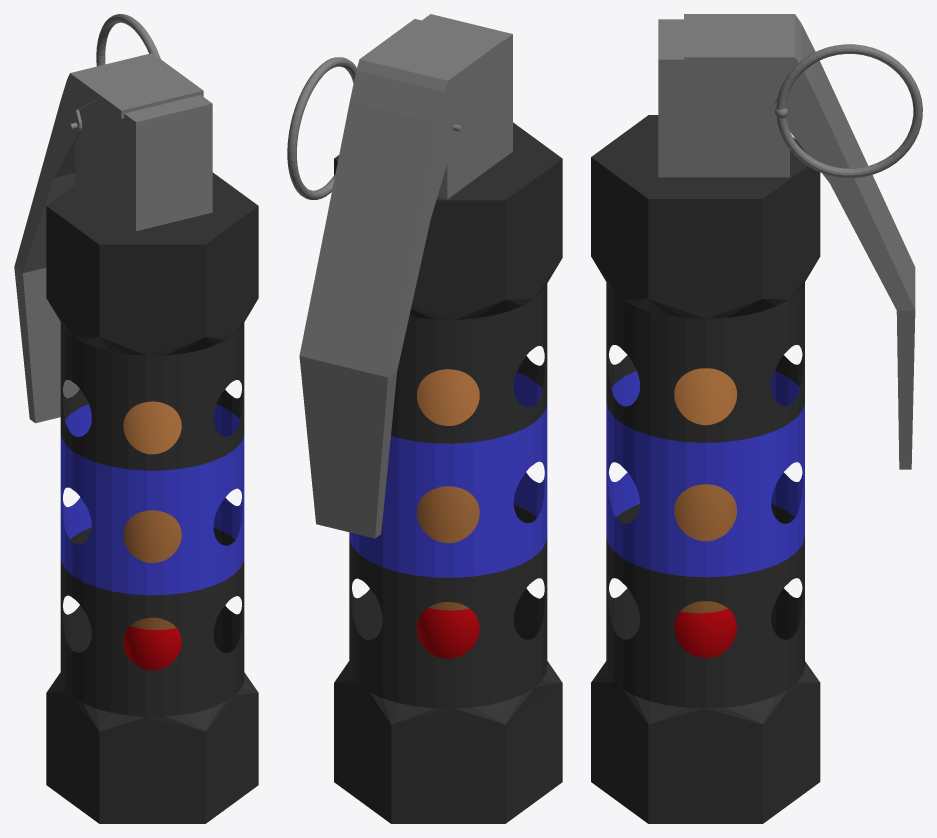
File: Flashbang.fbx
The picture shows the model from 3 angles, left to right: view 1: azimuth 30°, elevation 25°; view 2: azimuth 150°, elevation 25°; view 3: azimuth 270°, elevation 25°; orthographic projection. The views are drawn at different scales.
Visible parts, largest first — view 1: Flashbang, Flashbang Spoon, Flashbang Pin; view 2: Flashbang, Flashbang Spoon, Flashbang Pin; view 3: Flashbang, Flashbang Spoon, Flashbang Pin.
Boxes of the visible parts, box(x1,y1,x2,y2) form: Flashbang: box(46, 95, 258, 823); Flashbang Spoon: box(14, 53, 203, 423); Flashbang Pin: box(68, 14, 160, 129); Flashbang: box(334, 14, 562, 823); Flashbang Spoon: box(299, 19, 503, 538); Flashbang Pin: box(287, 57, 462, 199); Flashbang: box(591, 19, 820, 823); Flashbang Spoon: box(684, 14, 915, 469); Flashbang Pin: box(775, 44, 922, 177).
Bounding box in the file's own units: 84.63 × 358 × 141.
